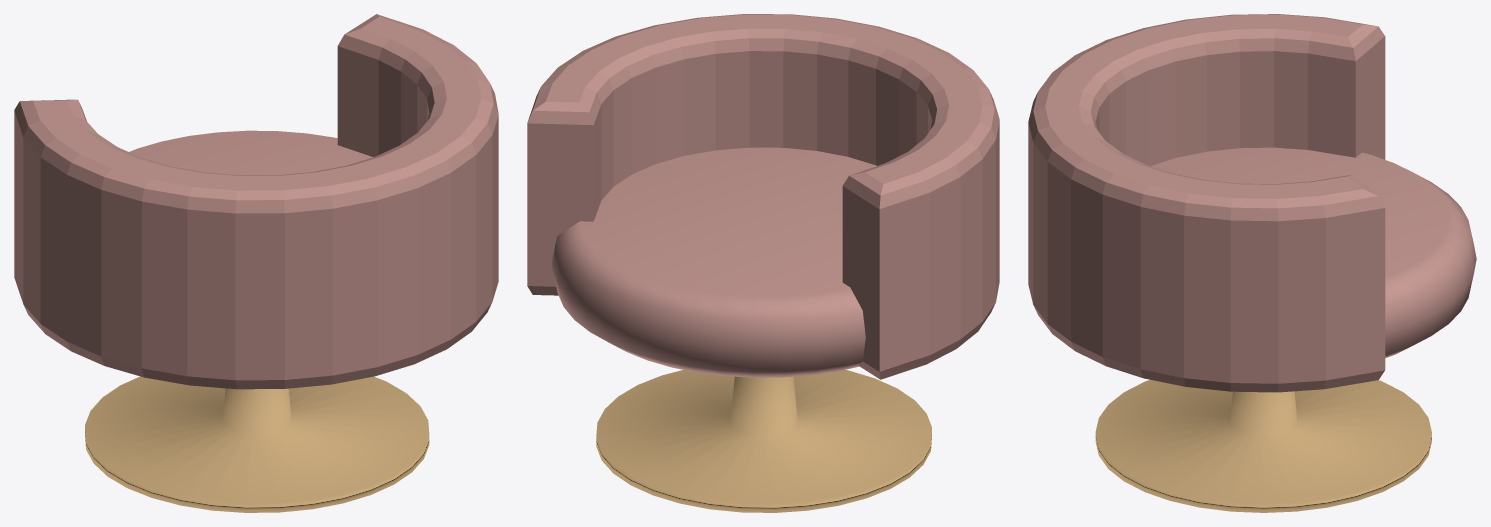
The model's file is lounge-chair.glb.
3 renders of one model, left to right at view 1: azimuth 30°, elevation 25°; view 2: azimuth 150°, elevation 25°; view 3: azimuth 270°, elevation 25°, orthographic. The views are drawn at different scales.
Parts seen in each view (by area): view 1: lounge-chair_LOD0:upholstery, lounge-chair_LOD0:bronze; view 2: lounge-chair_LOD0:upholstery, lounge-chair_LOD0:bronze; view 3: lounge-chair_LOD0:upholstery, lounge-chair_LOD0:bronze.
Boxes of the visible parts, x1,y1,x2,y2 form: lounge-chair_LOD0:upholstery: [14, 14, 498, 389]; lounge-chair_LOD0:bronze: [85, 376, 429, 512]; lounge-chair_LOD0:upholstery: [527, 14, 999, 379]; lounge-chair_LOD0:bronze: [596, 370, 931, 512]; lounge-chair_LOD0:upholstery: [1028, 14, 1476, 392]; lounge-chair_LOD0:bronze: [1095, 379, 1431, 512].
Size of what is drawn, in the model's own units: 0.8387 by 0.66 by 0.8002.
